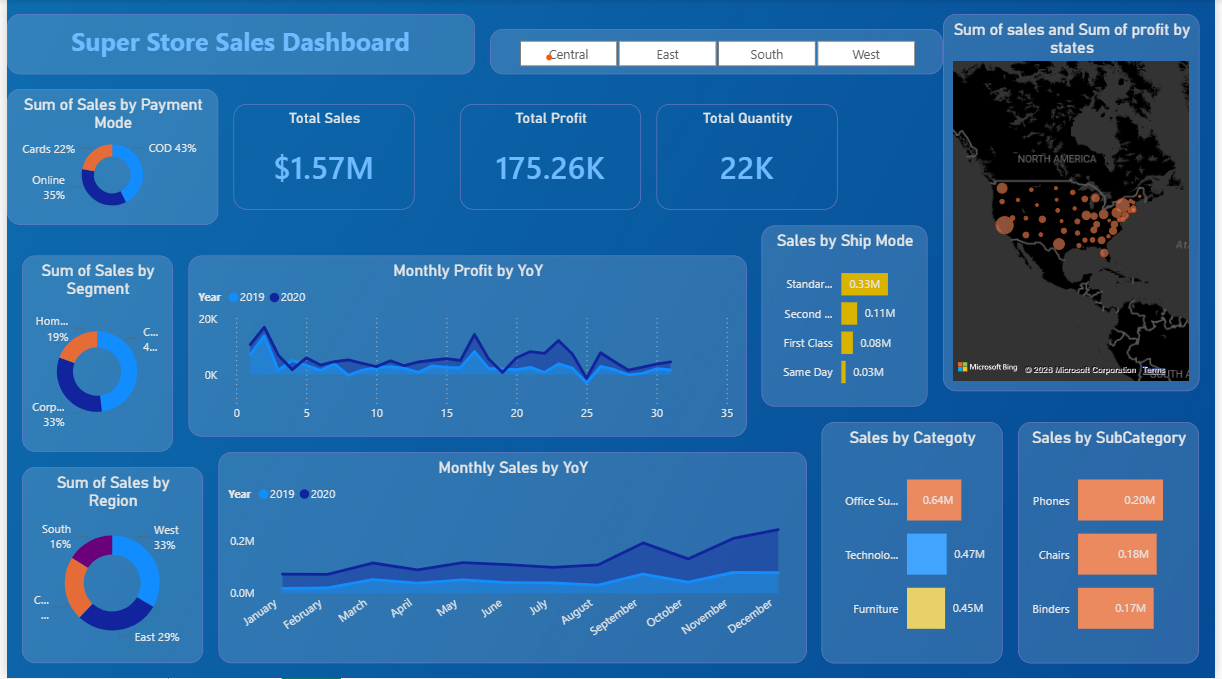

The page's visual inventory and layout, read from the dashboard file:
{"tool":"powerbi","page":{"name":"Page 1","canvas":[1280,720],"ordinal":0},"visuals":[{"type":"clusteredBarChart","title":"Sales by Categoty","fields":{"Category":["SuperStore_Sales_Dataset.Category"],"Y":["Sum(SuperStore_Sales_Dataset.Sales)"]},"box":[864,448,192,256],"z":0},{"type":"clusteredBarChart","title":"Sales by SubCategory","fields":{"Category":["SuperStore_Sales_Dataset.Sub-Category"],"Y":["Sum(SuperStore_Sales_Dataset.Sales)"]},"box":[1072,448,192,256],"z":1000},{"type":"clusteredBarChart","title":"Sales by Ship Mode","fields":{"Category":["SuperStore_Sales_Dataset.Ship Mode"],"Y":["Sum(SuperStore_Sales_Dataset.Sales)"]},"box":[800,240,176,192],"z":2000},{"type":"stackedAreaChart","title":"Monthly Profit by YoY","fields":{"Category":["Sheet1 (2).Order Date.Variation.Date Hierarchy.Month","Sheet1 (2).Order Date.Variation.Date Hierarchy.Day"],"Series":["Sheet1 (2).Order Date.Variation.Date Hierarchy.Year"],"Y":["Sum(Sheet1 (2).Profit)"]},"box":[192,272,592,192],"z":3000},{"type":"stackedAreaChart","title":"Monthly Sales by YoY","fields":{"Y":["Sum(Sheet1 (2).Sales)"],"Category":["Sheet1 (2).Order Date.Variation.Date Hierarchy.Month","Sheet1 (2).Order Date.Variation.Date Hierarchy.Day"],"Series":["Sheet1 (2).Order Date.Variation.Date Hierarchy.Year"]},"box":[224,480,624,224],"z":4000},{"type":"map","title":"Sum of sales and Sum of profit by states","fields":{"Category":["SuperStore_Sales_Dataset.State"],"Size":["Sum(SuperStore_Sales_Dataset.Sales)"]},"box":[992,16,272,400],"z":5000},{"type":"donutChart","fields":{"Y":["Sum(SuperStore_Sales_Dataset.Sales)"],"Category":["SuperStore_Sales_Dataset.Region"]},"box":[16,496,192,208],"z":6000},{"type":"donutChart","fields":{"Category":["SuperStore_Sales_Dataset.Payment Mode"],"Y":["Sum(SuperStore_Sales_Dataset.Sales)"]},"box":[0,96,224,144],"z":7000},{"type":"donutChart","fields":{"Category":["SuperStore_Sales_Dataset.Segment"],"Y":["Sum(SuperStore_Sales_Dataset.Sales)"]},"box":[16,272,160,208],"z":8000},{"type":"slicer","fields":{"Values":["SuperStore_Sales_Dataset.Region"]},"box":[512,32,480,48],"z":9000},{"type":"textbox","box":[0,16,496,64],"z":10000},{"type":"cardVisual","title":"Total Sales","fields":{"Data":["Sum(SuperStore_Sales_Dataset.Sales)"]},"box":[240,112,192,112],"z":11000},{"type":"cardVisual","title":"Total Profit","fields":{"Data":["Sum(SuperStore_Sales_Dataset.Profit)"]},"box":[480,112,192,112],"z":12000},{"type":"cardVisual","title":"Total Quantity","fields":{"Data":["Sum(Sheet1 (2).Quantity)"]},"box":[688,112,192,112],"z":13000}]}

Visuals, with their boxes in screenshot pixels (x1, y1, x2, y2), scaled from the page's 1280x720 canvas onto the 1222x679 screenshot:
"Sales by Categoty" clusteredBarChart: x1=825, y1=422, x2=1008, y2=664
"Sales by SubCategory" clusteredBarChart: x1=1023, y1=422, x2=1207, y2=664
"Sales by Ship Mode" clusteredBarChart: x1=764, y1=226, x2=932, y2=407
"Monthly Profit by YoY" stackedAreaChart: x1=183, y1=257, x2=748, y2=438
"Monthly Sales by YoY" stackedAreaChart: x1=214, y1=453, x2=810, y2=664
"Sum of sales and Sum of profit by states" map: x1=947, y1=15, x2=1207, y2=392
donutChart - Sum(SuperStore_Sales_Dataset.Sales) x SuperStore_Sales_Dataset.Region: x1=15, y1=468, x2=199, y2=664
donutChart - SuperStore_Sales_Dataset.Payment Mode x Sum(SuperStore_Sales_Dataset.Sales): x1=0, y1=91, x2=214, y2=226
donutChart - SuperStore_Sales_Dataset.Segment x Sum(SuperStore_Sales_Dataset.Sales): x1=15, y1=257, x2=168, y2=453
slicer - SuperStore_Sales_Dataset.Region: x1=489, y1=30, x2=947, y2=75
textbox: x1=0, y1=15, x2=474, y2=75
"Total Sales" cardVisual: x1=229, y1=106, x2=412, y2=211
"Total Profit" cardVisual: x1=458, y1=106, x2=642, y2=211
"Total Quantity" cardVisual: x1=657, y1=106, x2=840, y2=211
